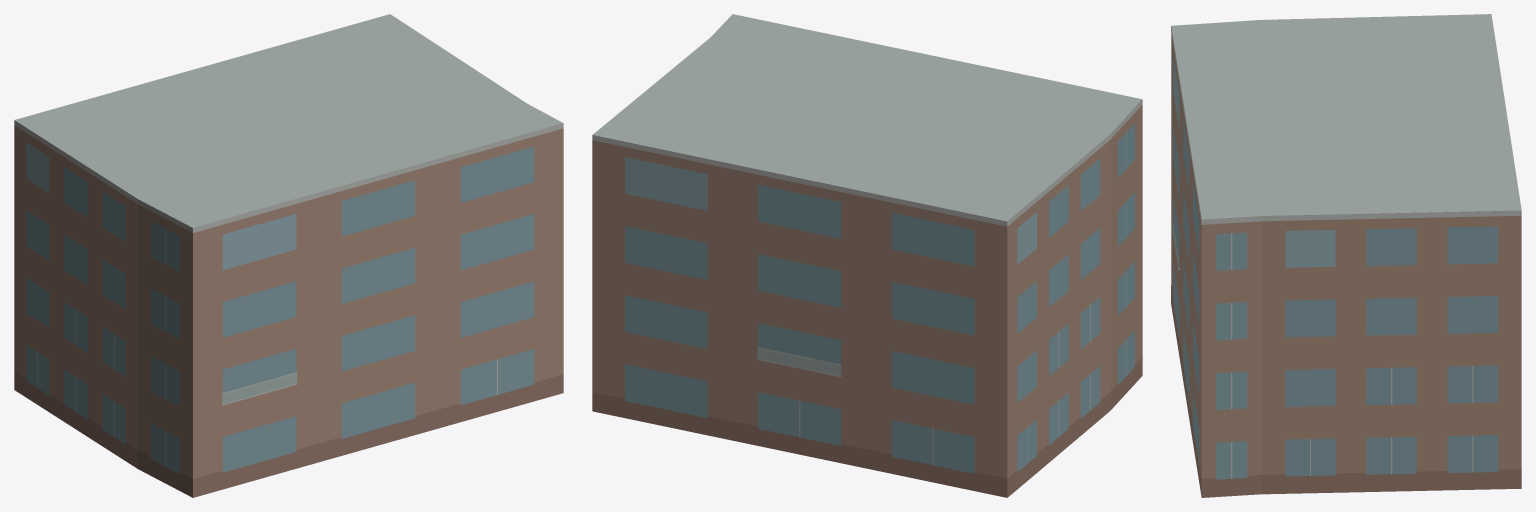
The model's file is survey-upis-33035029.glb.
The picture shows the model from 3 angles, left to right: view 1: azimuth 30°, elevation 25°; view 2: azimuth 150°, elevation 25°; view 3: azimuth 270°, elevation 25°; orthographic projection. The views are drawn at different scales.
Visible parts, largest first — view 1: survey-upis-33035029.tmp; view 2: survey-upis-33035029.tmp; view 3: survey-upis-33035029.tmp.
Boxes of the visible parts, <box> form: survey-upis-33035029.tmp: <box>14,14,563,497</box>; survey-upis-33035029.tmp: <box>592,14,1142,497</box>; survey-upis-33035029.tmp: <box>1171,14,1521,497</box>.
Size of the model in its own units: 20.46 by 12.9 by 14.74.
